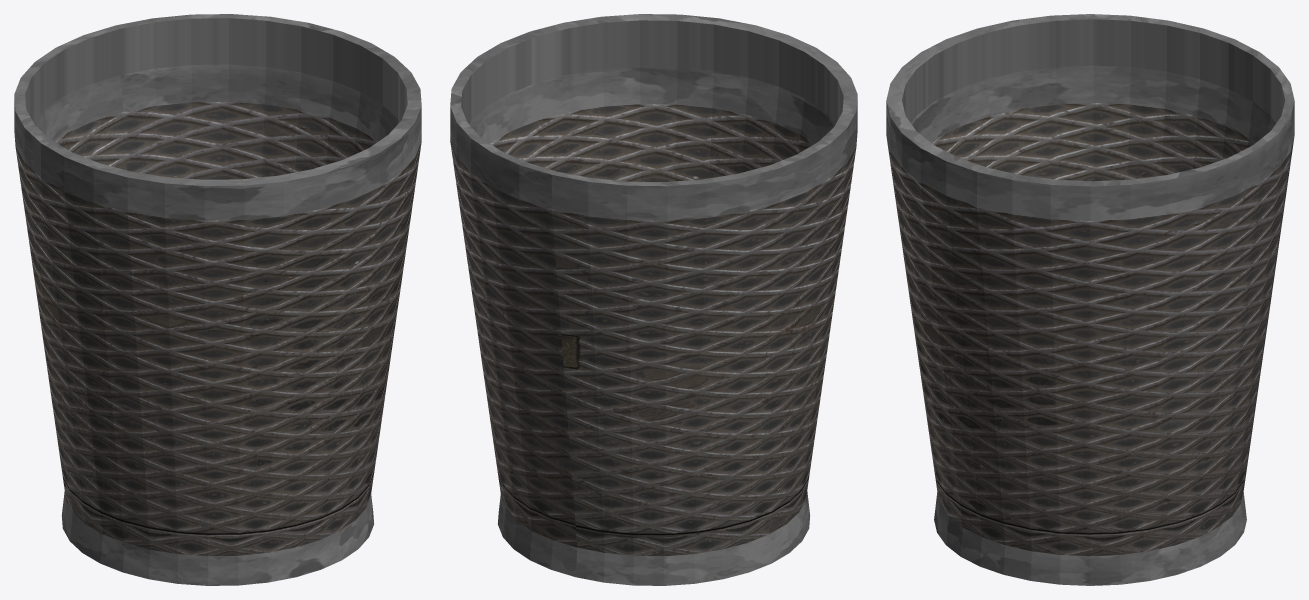
The model's file is trashGood.fbx.
3 renders of one model, left to right at view 1: azimuth 30°, elevation 25°; view 2: azimuth 150°, elevation 25°; view 3: azimuth 270°, elevation 25°, orthographic.
Visible parts, largest first — view 1: Cylinder; view 2: Cylinder; view 3: Cylinder.
Boxes of the visible parts, <box> form: Cylinder: <box>14,14,421,585</box>; Cylinder: <box>450,14,857,585</box>; Cylinder: <box>886,14,1294,585</box>.
Bounding box in the file's own units: 388 × 441 × 388.
1 material, 1 textured.
